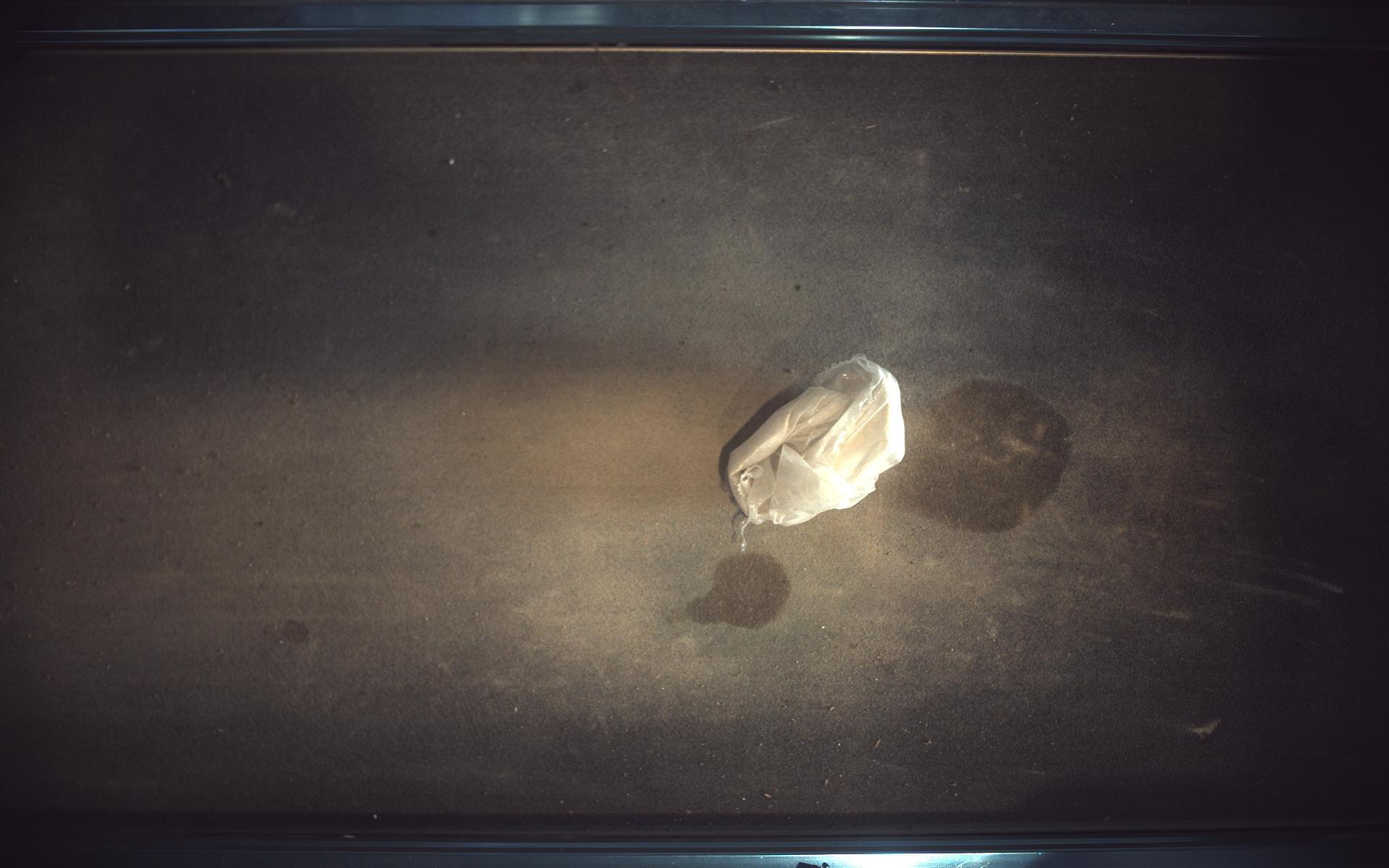general_w: (729, 356, 906, 527)
